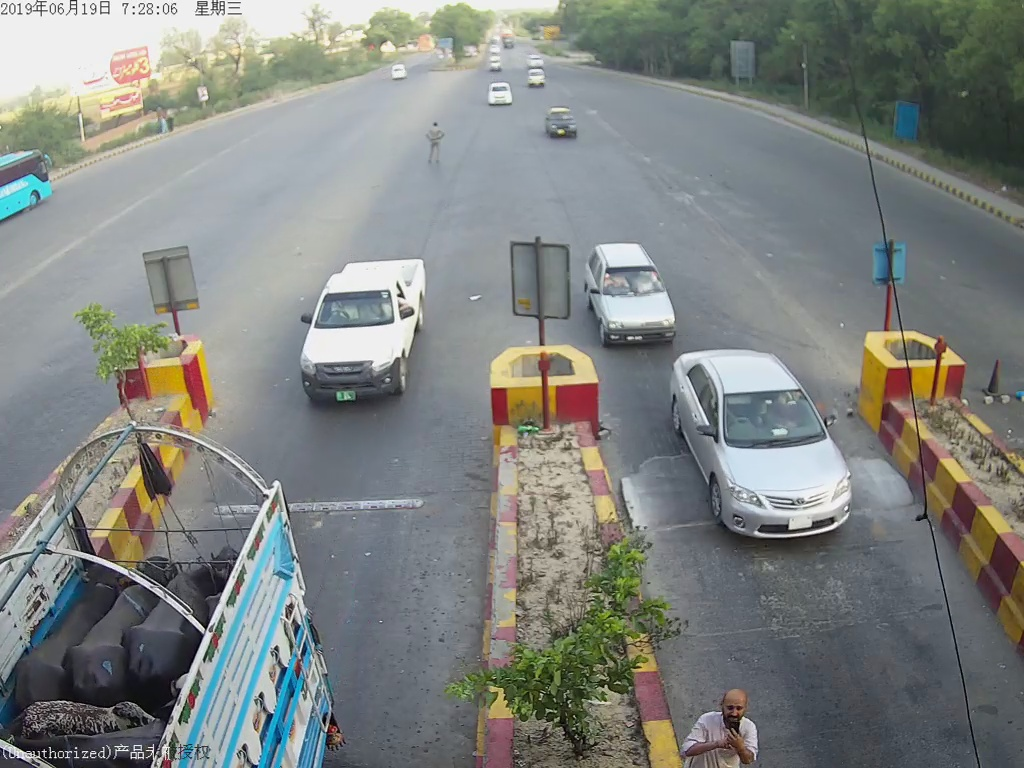Cat-1: (664, 343, 874, 545), (298, 250, 431, 407), (588, 243, 672, 345)
